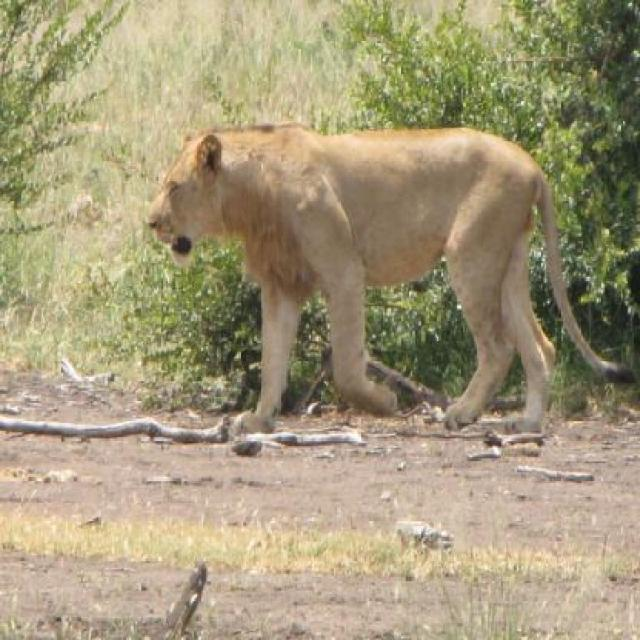Lion: (130, 103, 638, 448)
